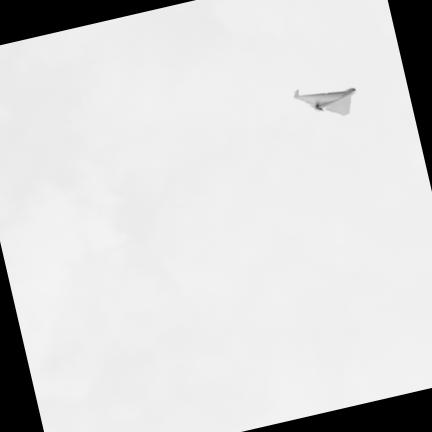Shahed: (294, 87, 355, 114)
